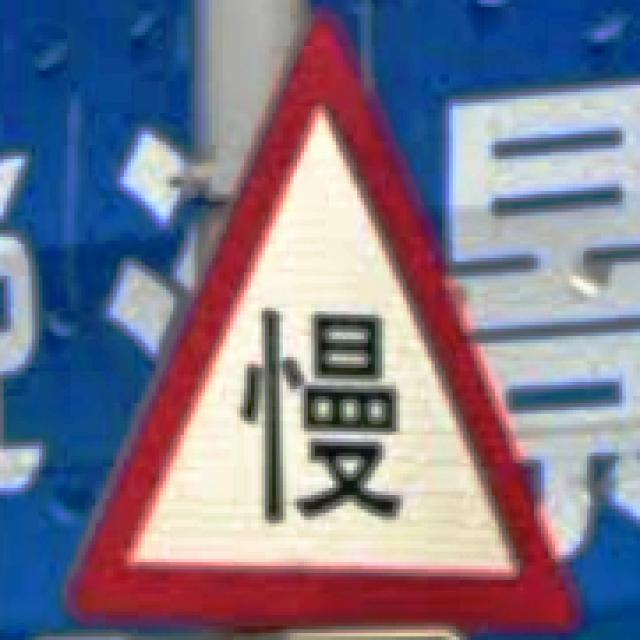slow: (70, 13, 576, 629)
